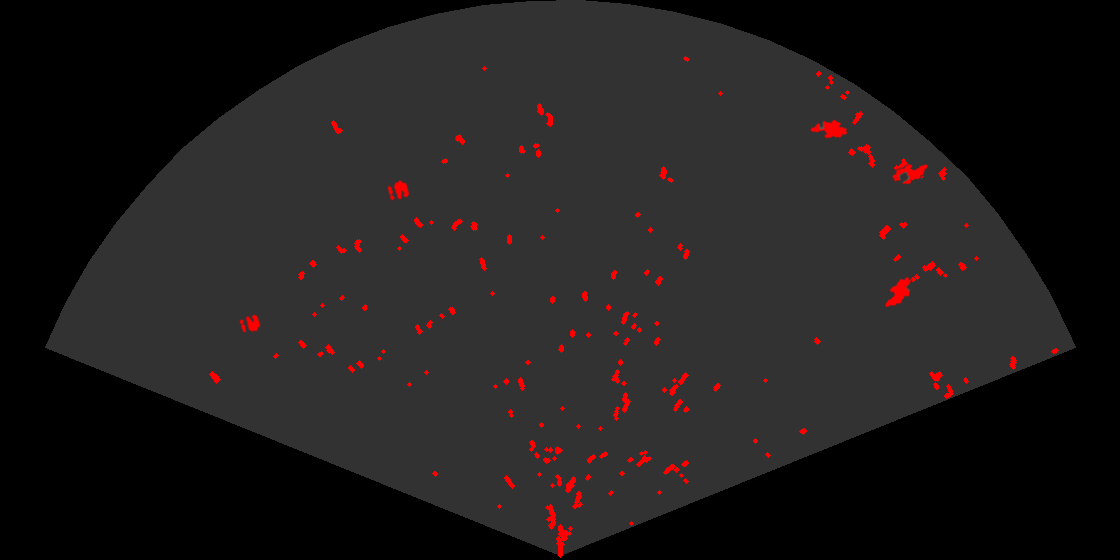AUV: (883, 275, 913, 309), (890, 163, 930, 186), (808, 118, 849, 140)
ball: (386, 178, 411, 202), (238, 313, 262, 334)
